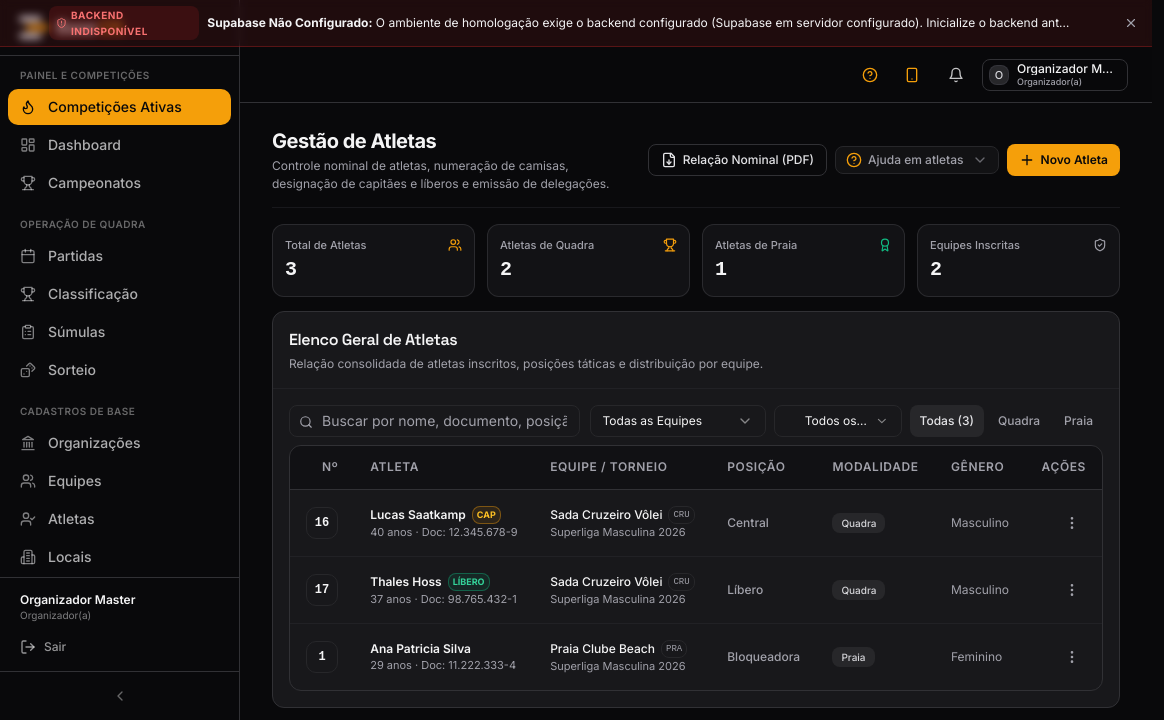
AthletesPage Component (Fase 5.2) › filtra atletas por modalidade
Expected: the text "Lucas Saatkamp" is shown, [370, 507, 466, 523]
Click the button "Praia" at (1079, 420), box [1054, 404, 1103, 436]
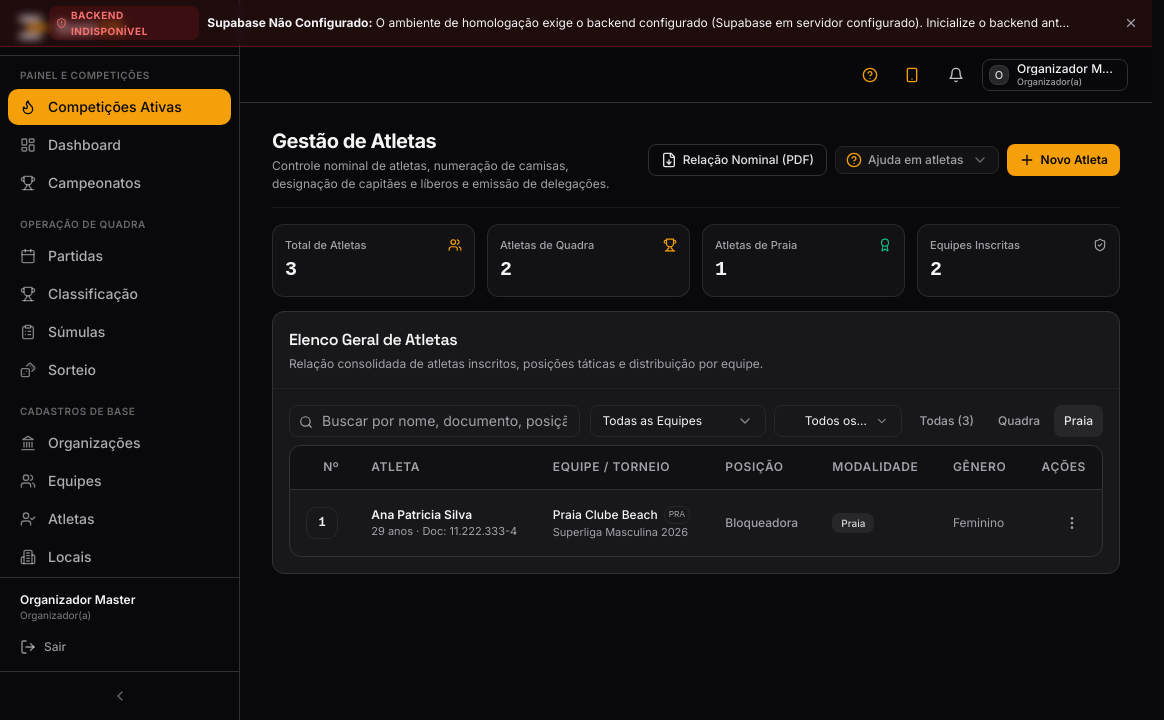
Expected: the text "Ana Patricia Silva" is shown, [371, 507, 472, 523]
Expected: the text "Lucas Saatkamp" is gone
Expected: the text "Thales Hoss" is gone
